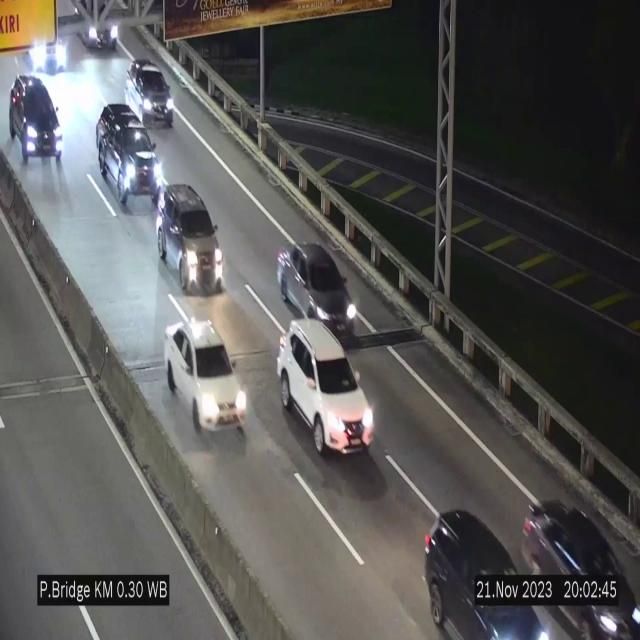Car: (412, 489, 550, 640), (521, 469, 640, 639), (277, 319, 375, 453), (165, 320, 249, 444), (152, 179, 225, 289), (93, 108, 161, 206), (277, 244, 355, 322), (6, 72, 66, 168), (127, 58, 173, 128)
